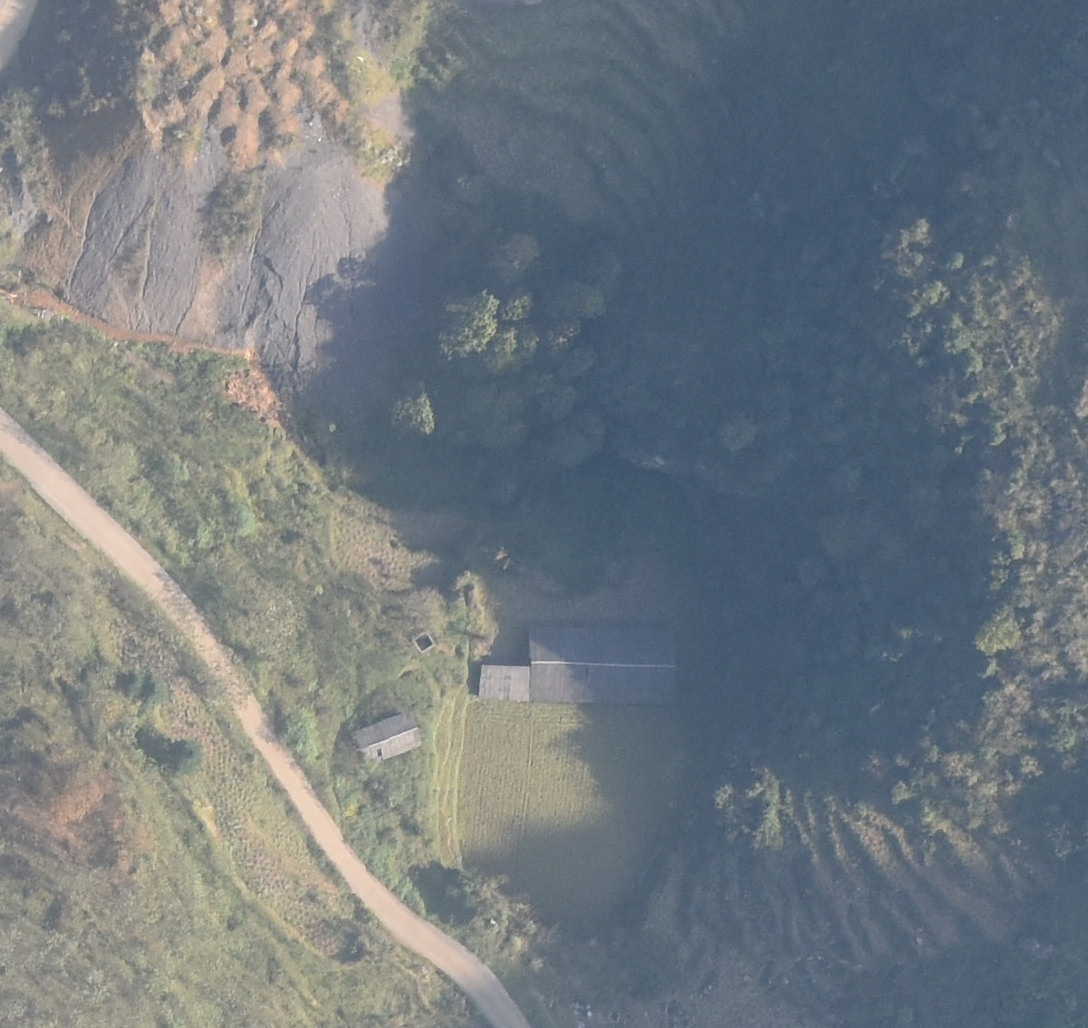building: (530, 623, 679, 703), (349, 711, 426, 762), (478, 665, 531, 703)
